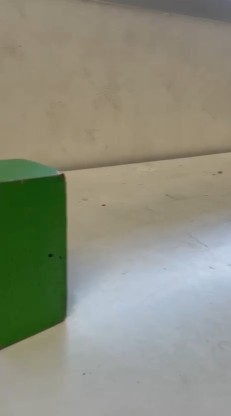green: (0, 151, 83, 365)
